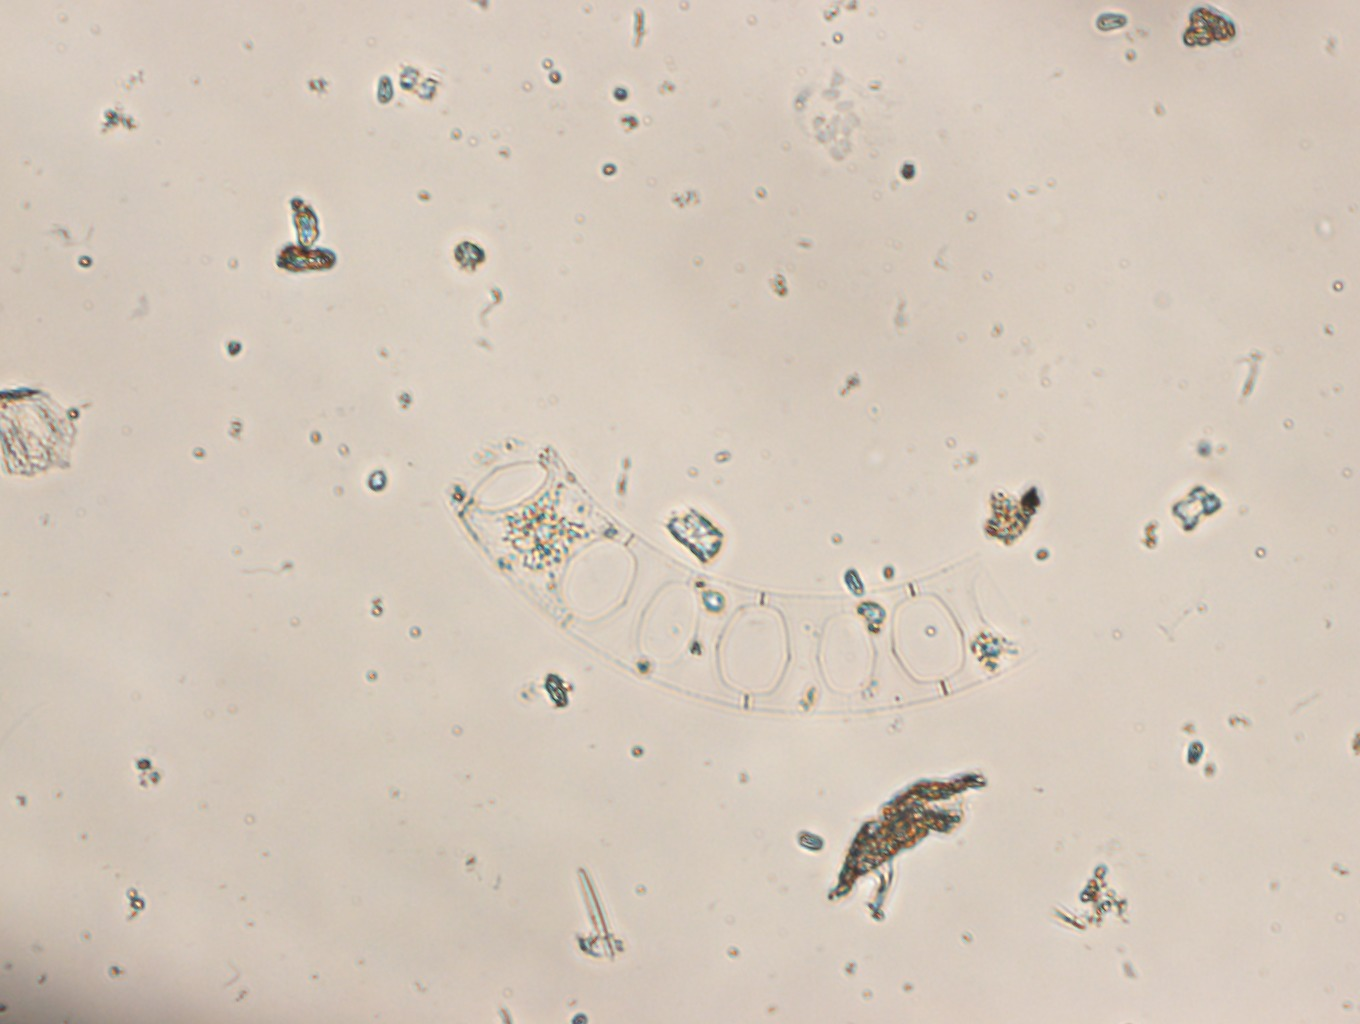eucampia: (427, 422, 1036, 723)
